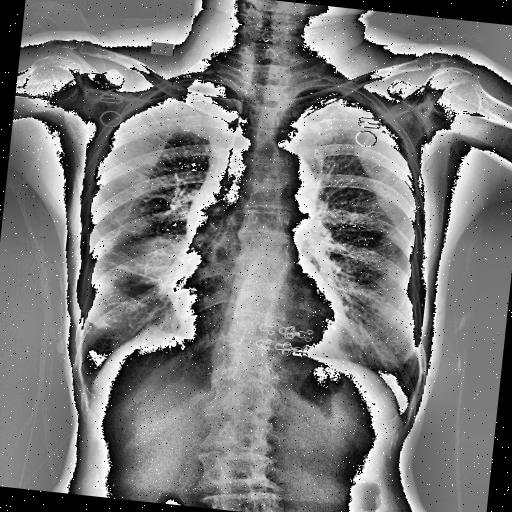0- Aortic enlargement: (182, 144, 320, 264), (240, 146, 324, 228), (256, 148, 322, 219)
11- Pleural thickening: (323, 84, 385, 108), (170, 74, 225, 92)
13- Pulmonary fibrosis: (90, 232, 190, 328)
7- Lung Opacity: (90, 232, 190, 328), (112, 228, 184, 294), (132, 233, 184, 295)
